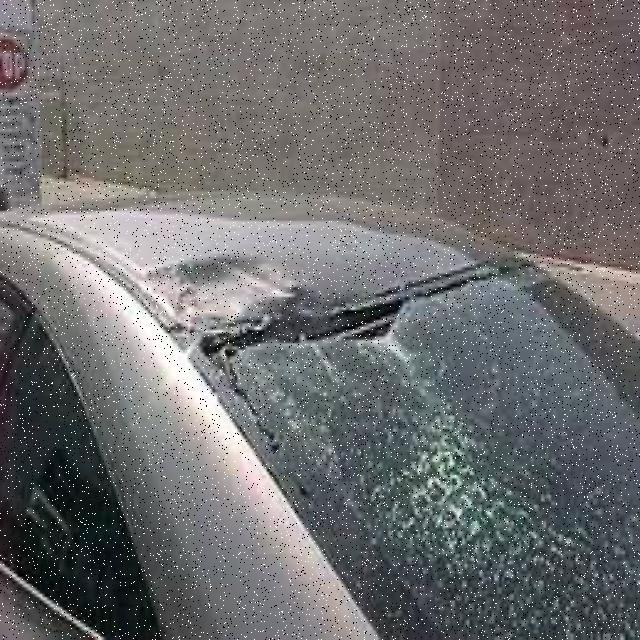Rear-windscreen-Damage: (166, 228, 638, 637)
